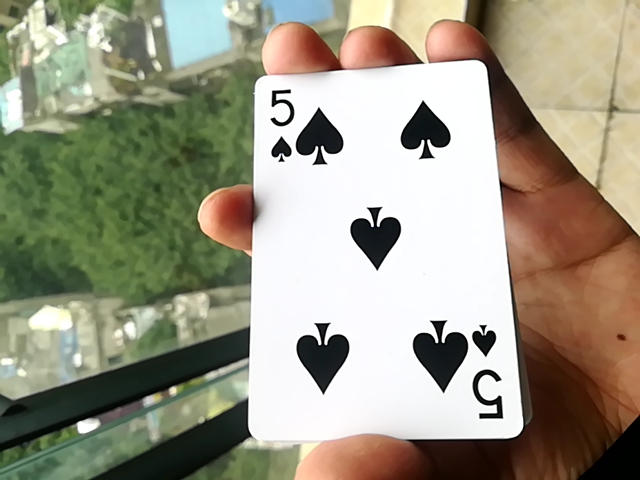ht 5: (233, 63, 522, 449)
